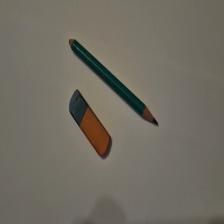eraser: (70, 90, 113, 158)
pencil: (70, 39, 160, 126)
